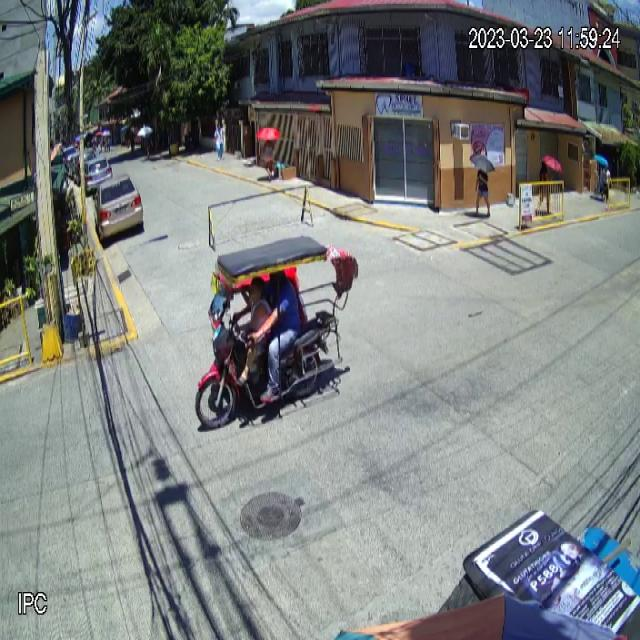Tricycle: (195, 235, 359, 434)
